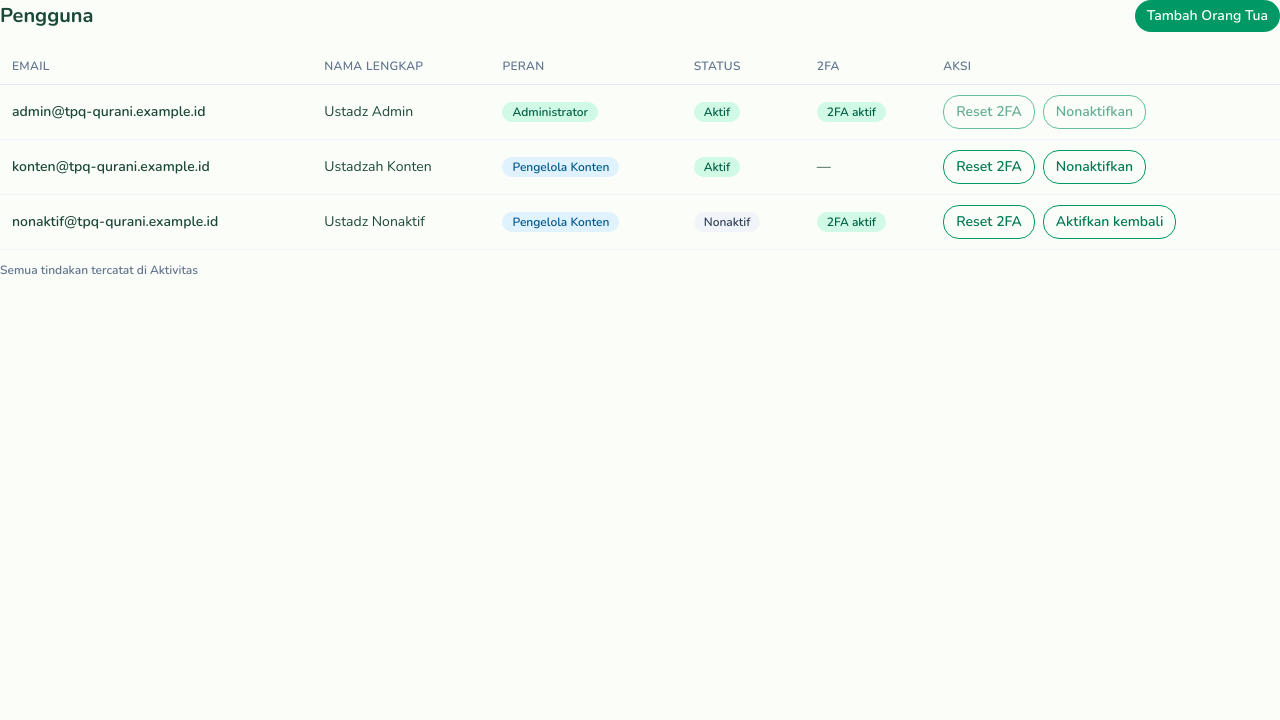
Test case: Users management › deactivates a user after confirmation, noting sessions are ended
Expected: the text "admin@tpq-qurani.example.id" is shown, [0, 84, 312, 140]
Click the button "Nonaktifkan" in the row of "konten@tpq-qurani.example.id" at (1094, 167), box [1043, 150, 1146, 184]
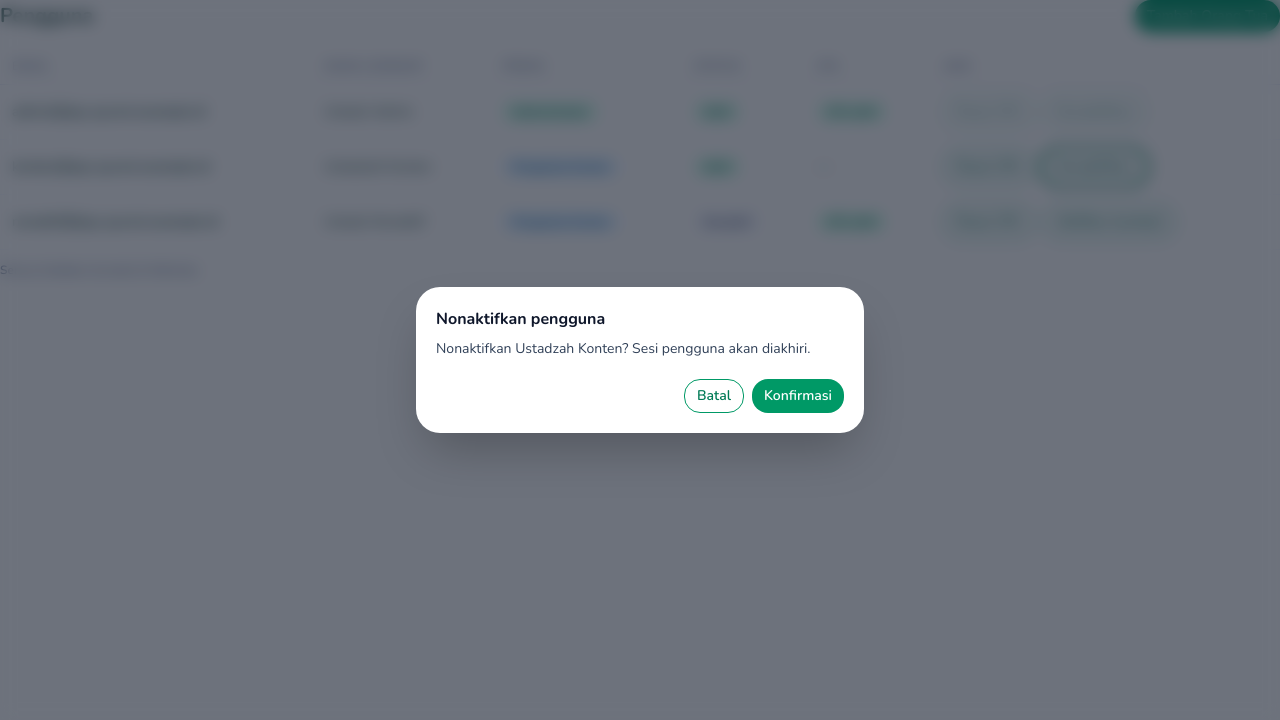
Now the text "Nonaktifkan Ustadzah Konten? Sesi pengguna akan diakhiri." is shown, box [436, 339, 844, 359]
Click the button "Konfirmasi" at (798, 396), box [752, 379, 844, 413]
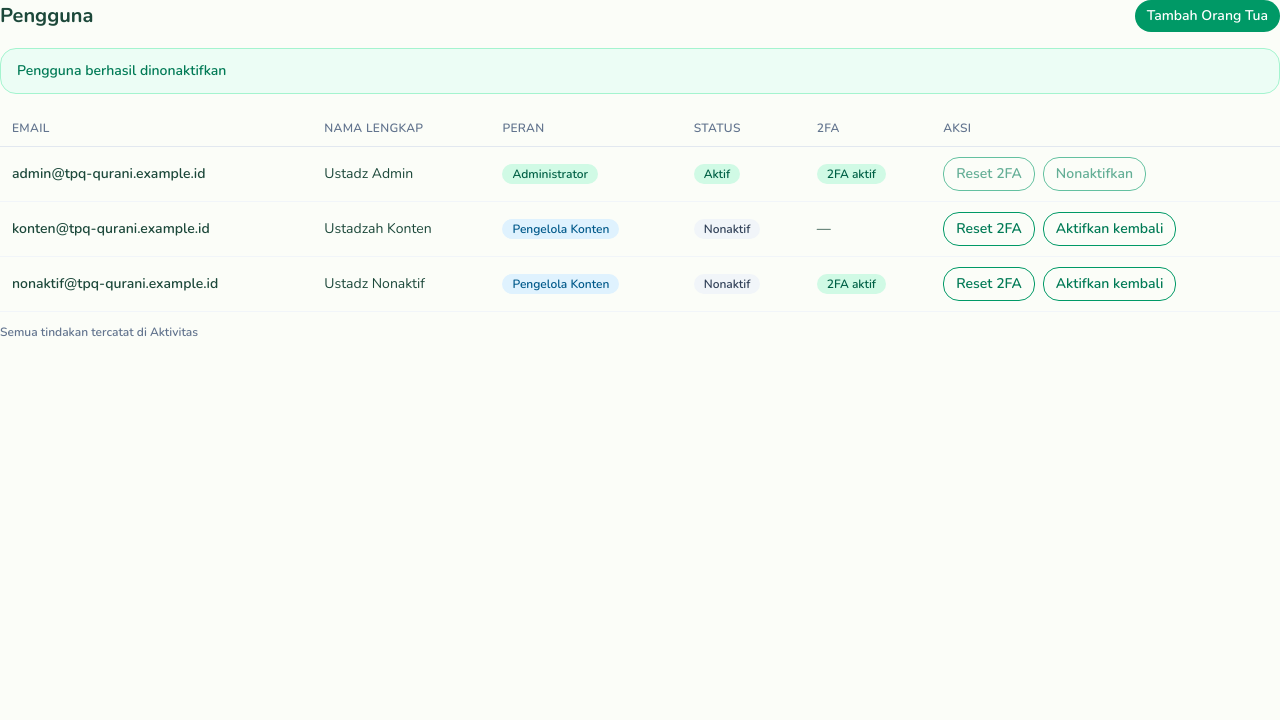
Now the text "Nonaktif" in the row of "konten@tpq-qurani.example.id" is shown, box [704, 221, 750, 237]
Now the button "Aktifkan kembali" in the row of "konten@tpq-qurani.example.id" is shown, box [1043, 212, 1176, 246]
